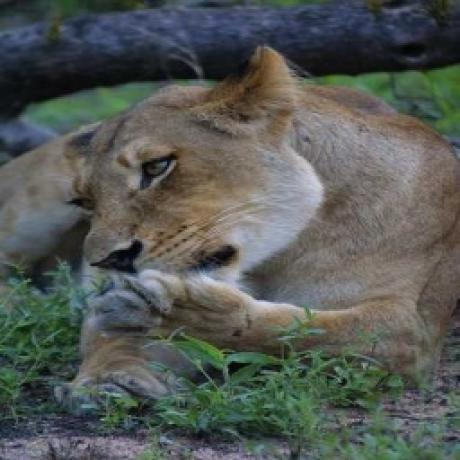Lion: (0, 44, 460, 415)
